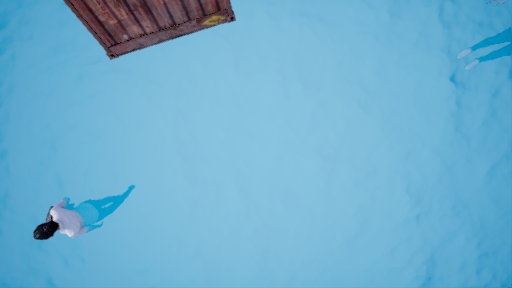person: (30, 184, 130, 247)
